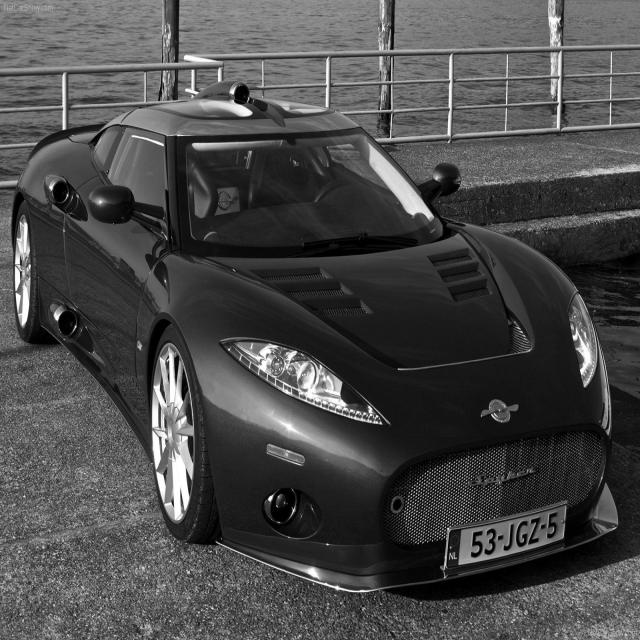car: (11, 78, 619, 593)
plat_license: (443, 500, 568, 571)
